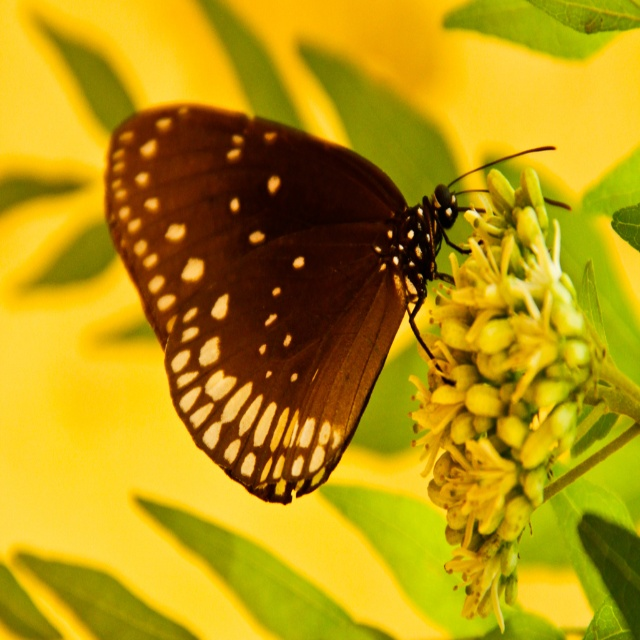Butterfly: (103, 101, 573, 505)
